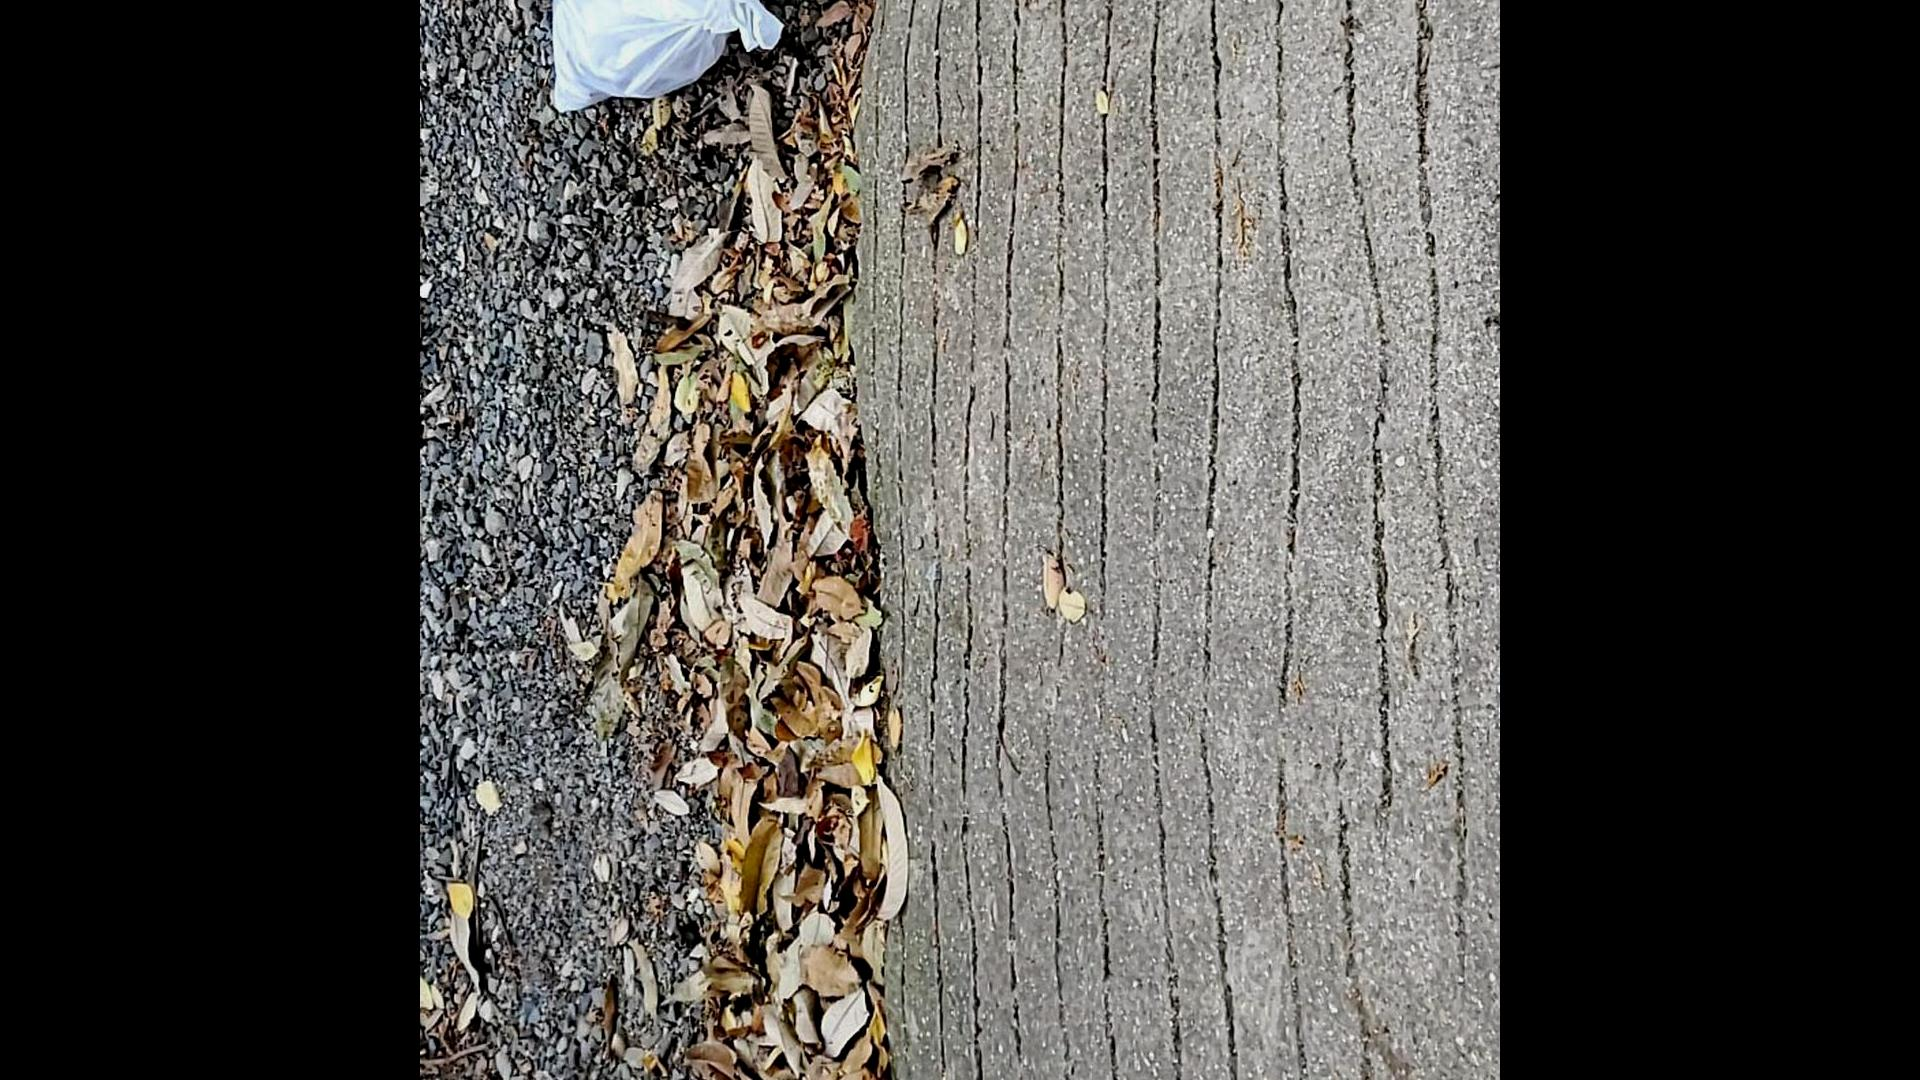white_bag: (533, 0, 818, 127)
